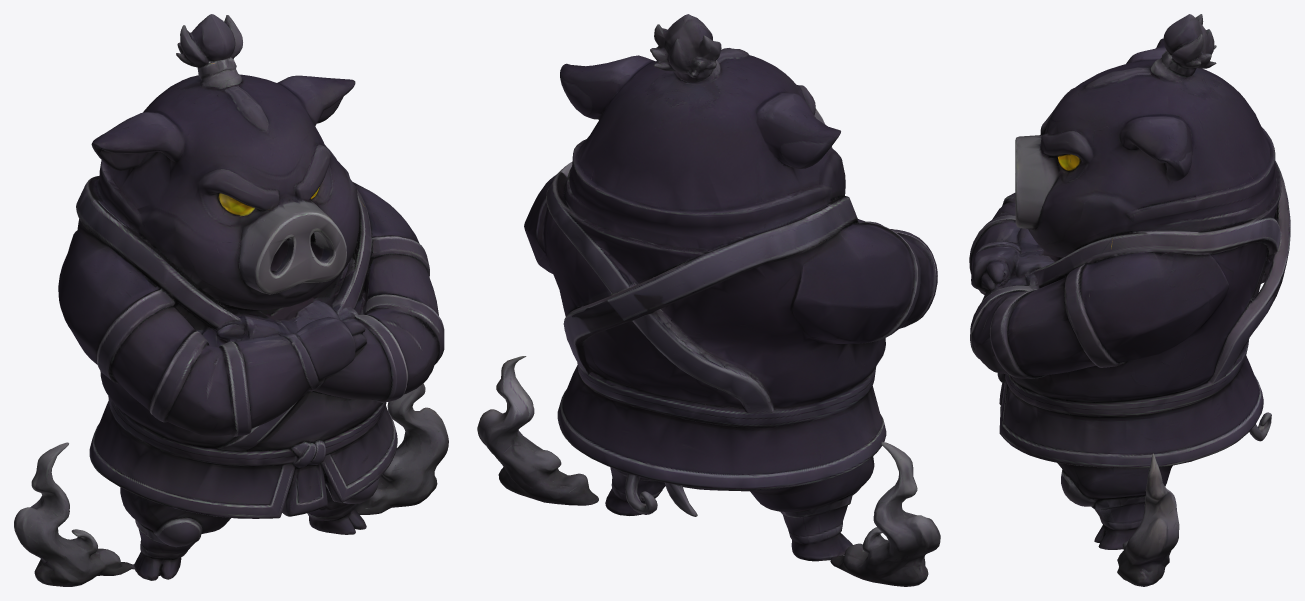
Rendered from ninja.glb.
3 renders of one model, left to right at view 1: azimuth 30°, elevation 25°; view 2: azimuth 150°, elevation 25°; view 3: azimuth 270°, elevation 25°, orthographic. The views are drawn at different scales.
Visible parts, largest first — view 1: Mesh_0; view 2: Mesh_0; view 3: Mesh_0.
Boxes of the visible parts, x1=… form: Mesh_0: x1=14, y1=14, x2=448, y2=586; Mesh_0: x1=477, y1=14, x2=940, y2=586; Mesh_0: x1=969, y1=14, x2=1290, y2=586.
Size of the model in its own units: 1.69 by 1.91 by 1.15.
Materials: 1 (1 with a texture image).
